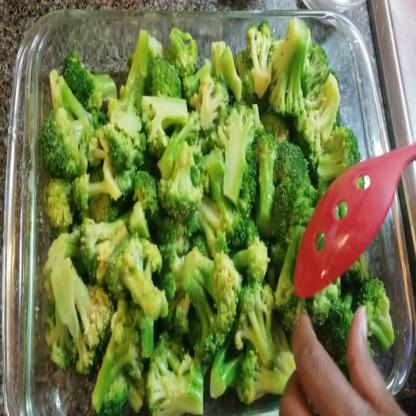broccoli: (43, 13, 395, 416)
